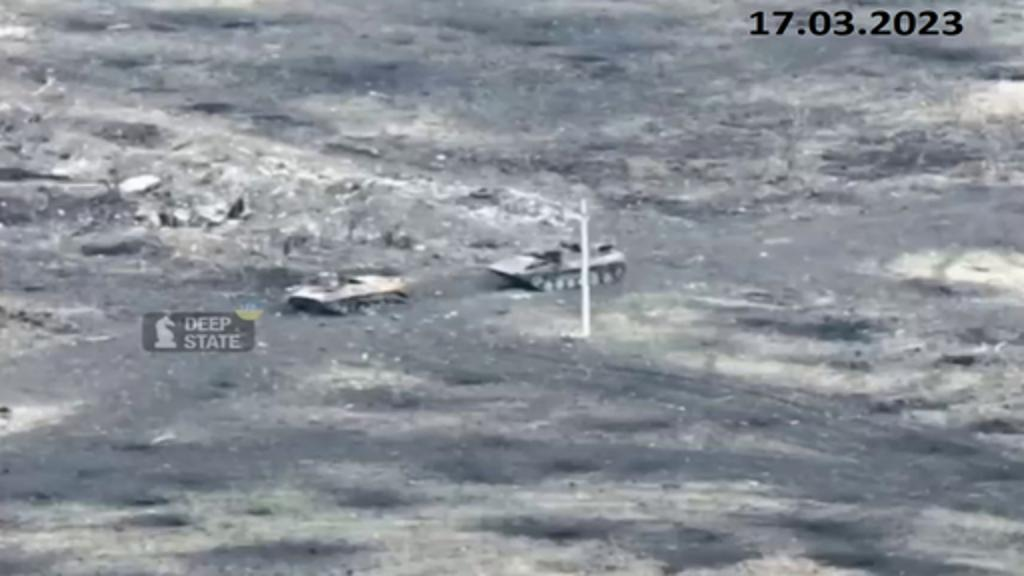APC-IFV: (478, 232, 628, 292), (282, 258, 410, 320)
